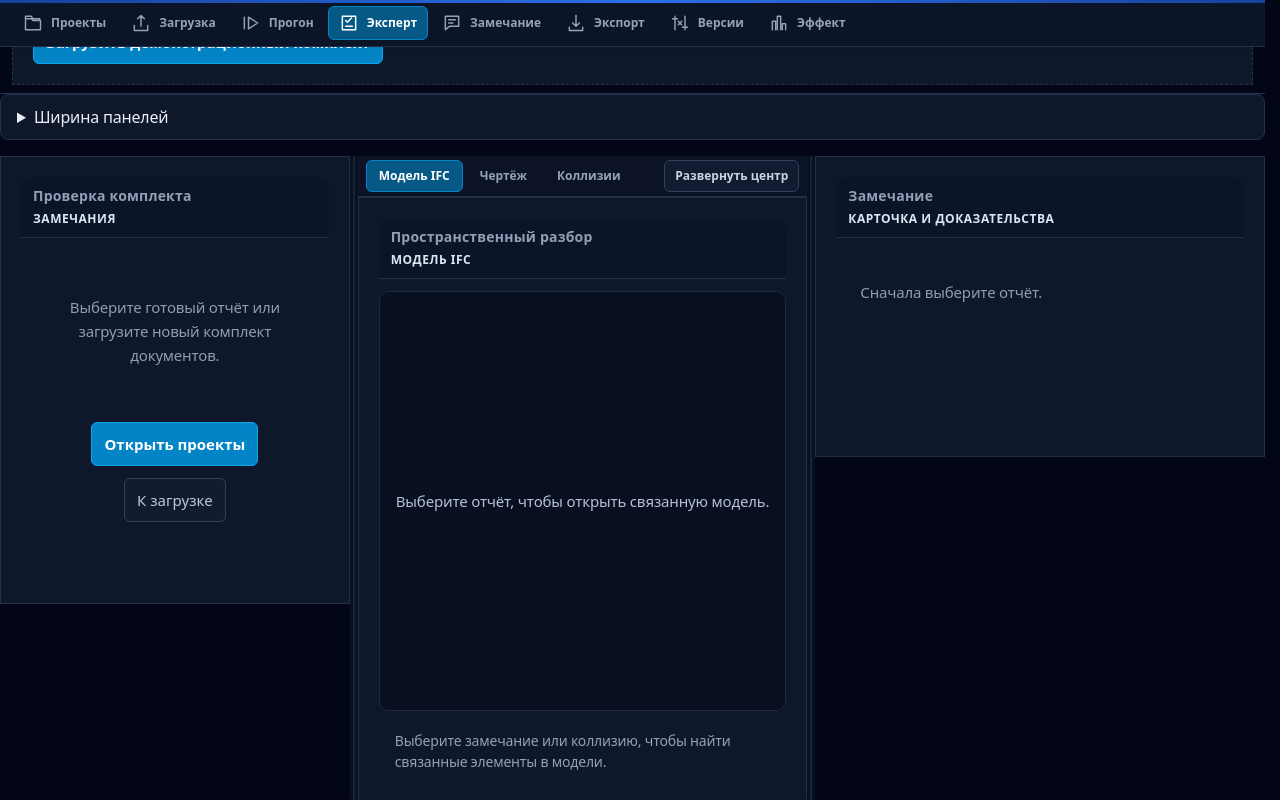
Test: App › offers projects and upload from an empty expert pane
(page scrolled)
What coordinates should you click on to do the following:
click the button "Открыть проекты"
I would click on:
 (175, 444)
Its box is [91,422,258,466].
(page scrolled)
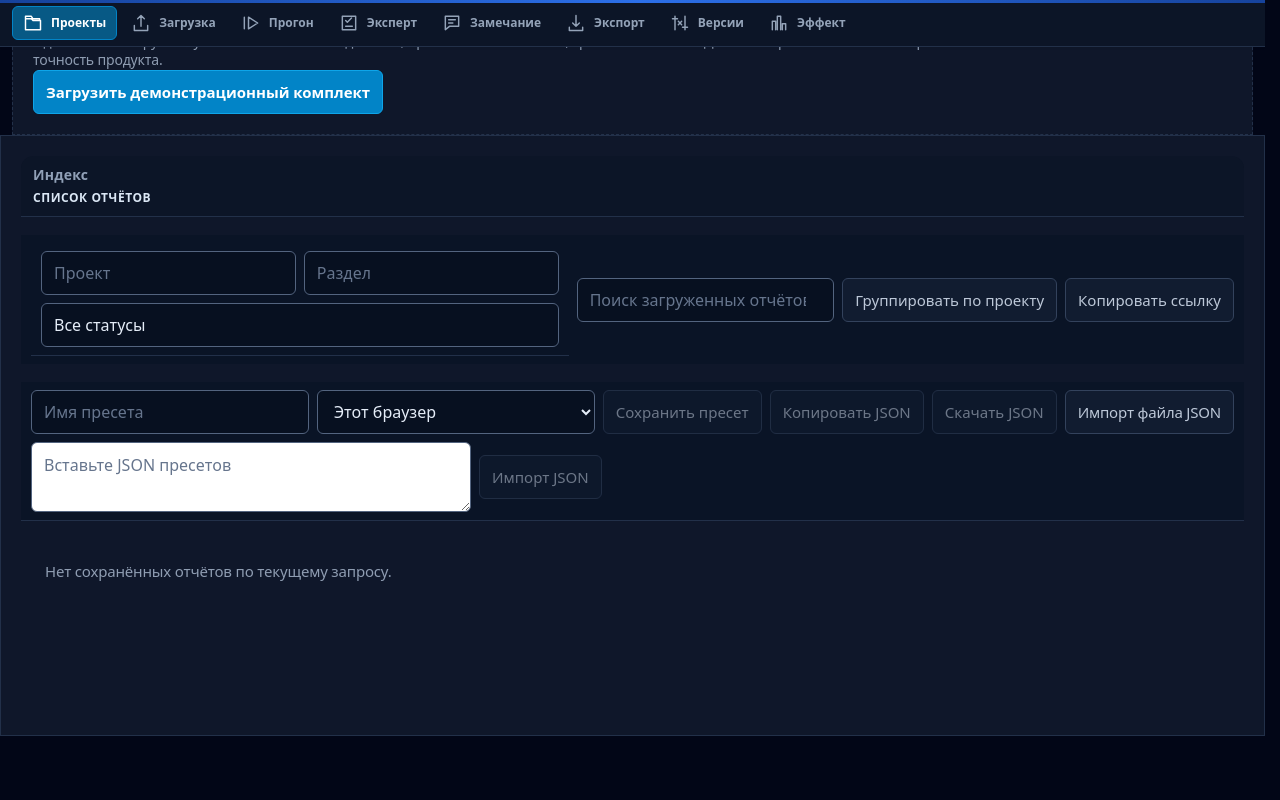
Result: the element with test id "projects-index" is shown
